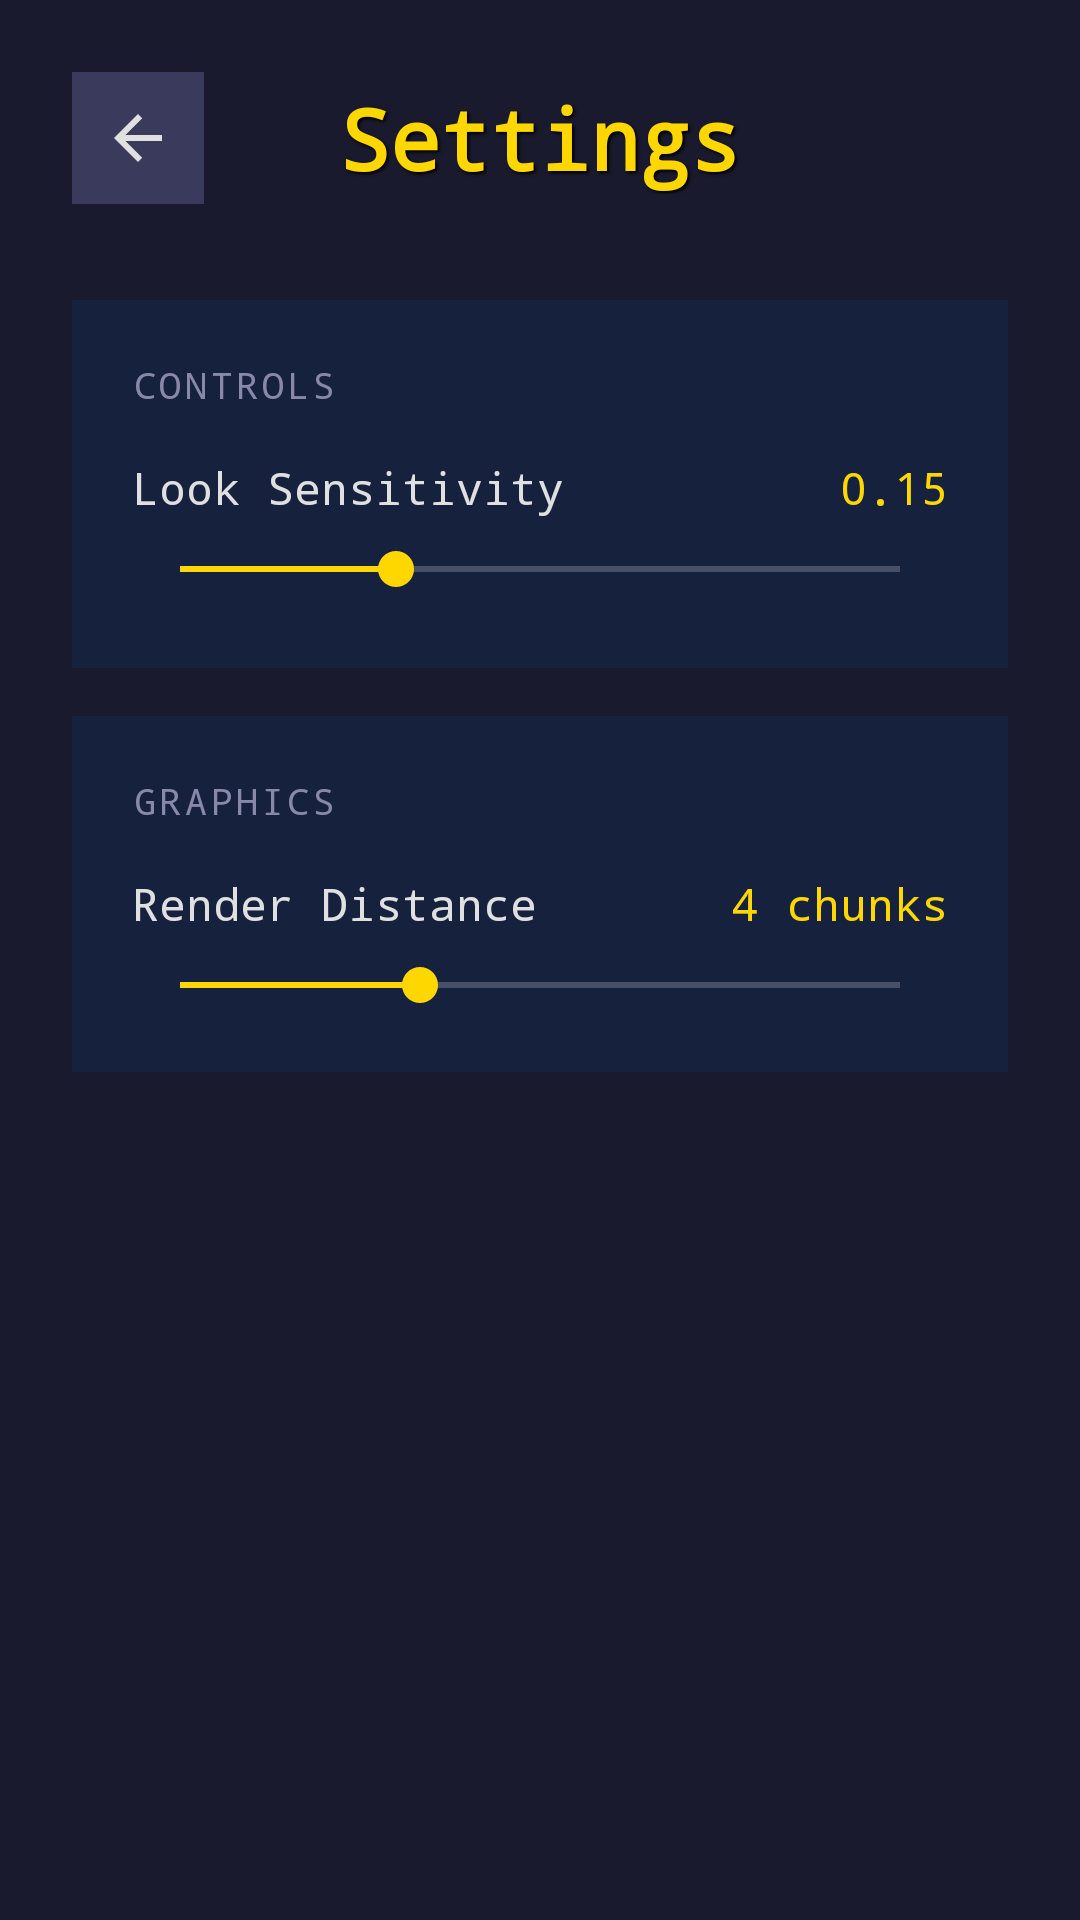

Icon click points for this 1080px x 1920px phone screenshot, format point (x, y):
Back: point (138, 138)
